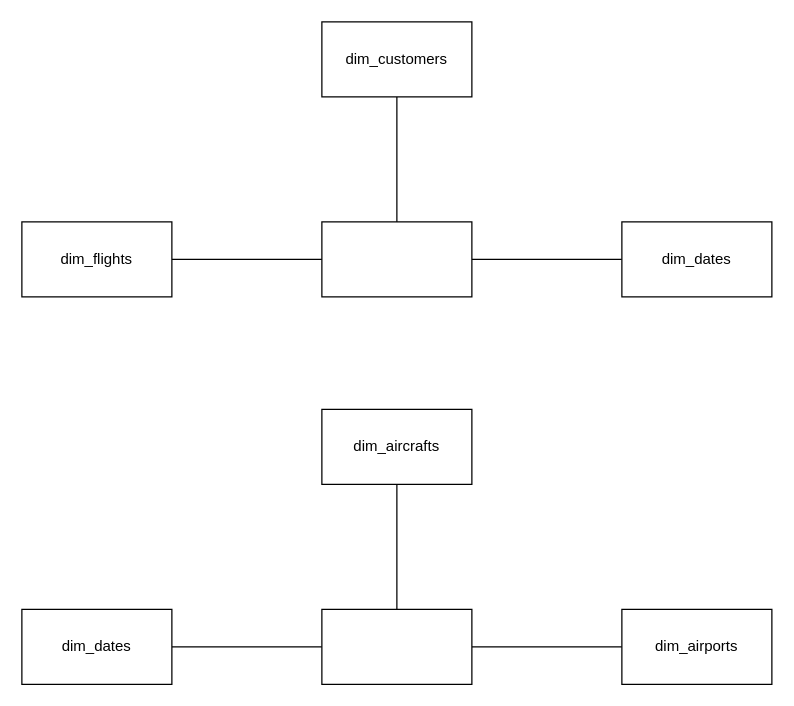
This 794x706 diagram has some shape labels left out. Each missing label, with the box of its shape:
fact_flights: (321, 608, 472, 684)
fact_tickets: (321, 221, 472, 297)
